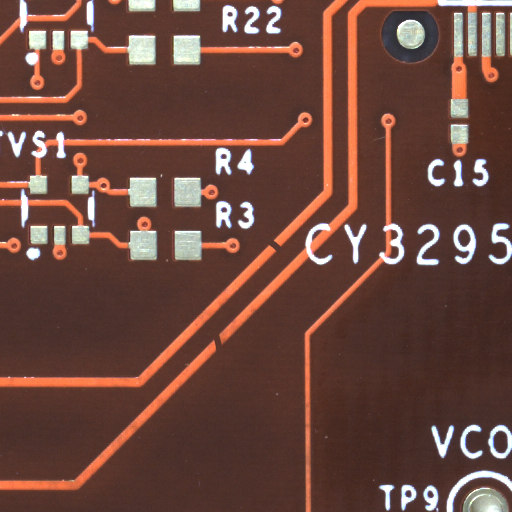Open_circuit: (275, 245, 294, 266), (218, 341, 228, 366)
